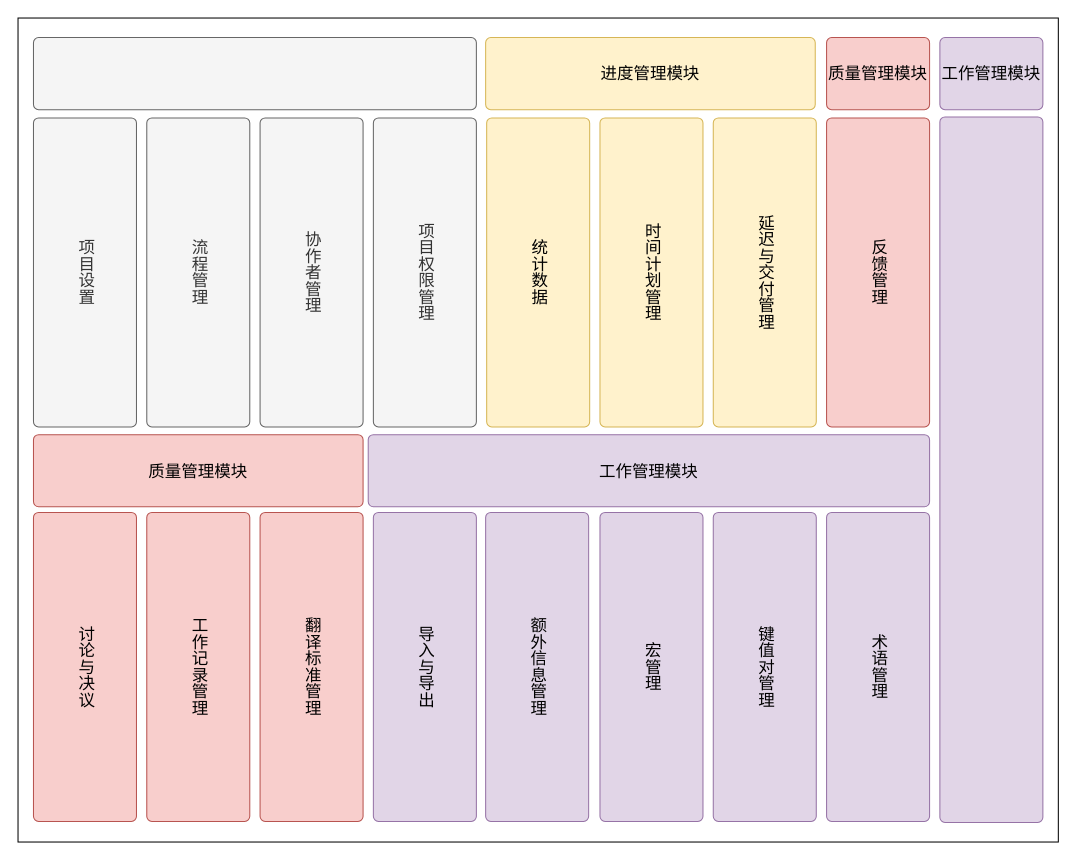
Some shapes in this 1076 by 860 pixel diagram are drawn without their labels. The box of each missing label's shape, as (x1, y1, x2, y2) in pixels:
翻译管理: (939, 116, 1043, 822)
项目管理模块: (32, 37, 476, 110)
